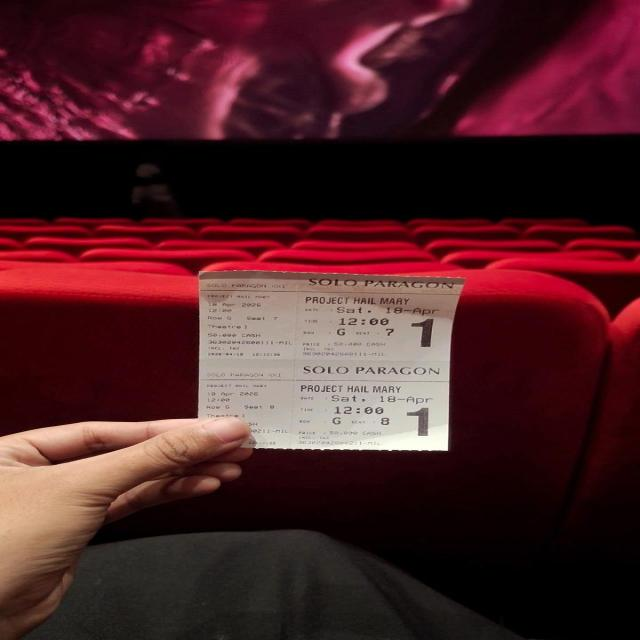date: (204, 391, 270, 403)
store: (302, 362, 448, 378), (205, 370, 285, 379)
total: (298, 429, 390, 437)
